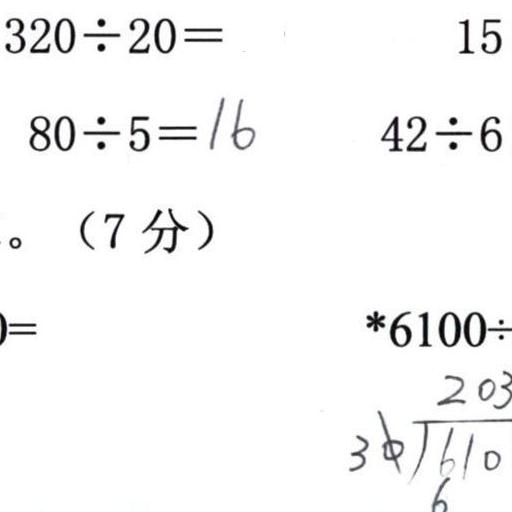ans: (203, 91, 255, 151)
